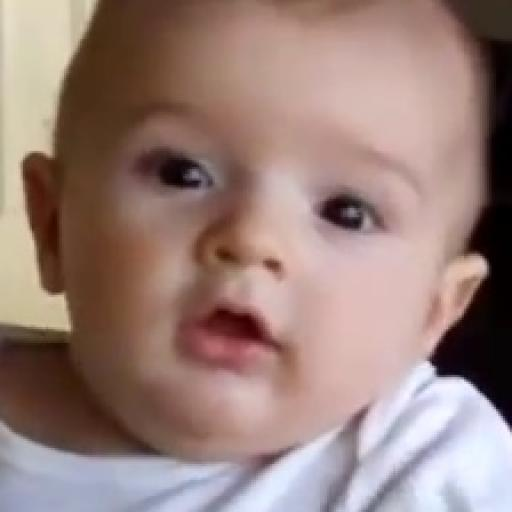Autism: (58, 3, 480, 453)
